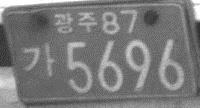5: (65, 40, 92, 94)
6: (157, 38, 185, 91), (96, 39, 123, 93)
7: (119, 8, 138, 35)
8: (101, 11, 120, 35)
9: (124, 38, 150, 92)
가: (22, 41, 55, 77)
광주_O: (53, 11, 97, 35)
